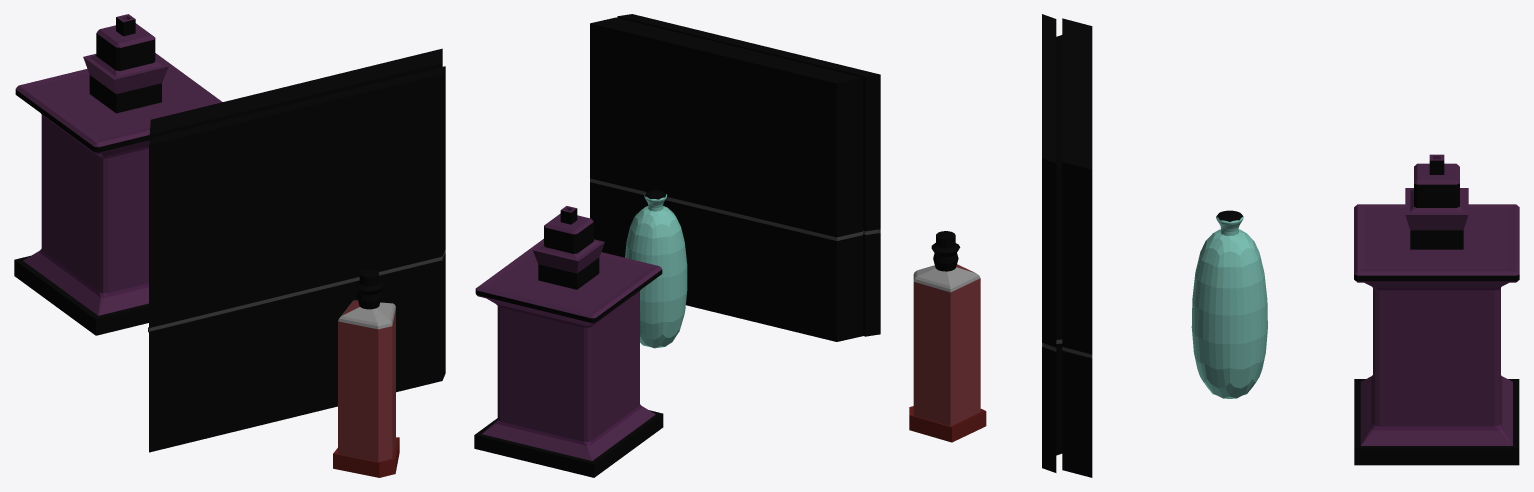
The model's file is mais_coisa_pra_sala.fbx.
The picture shows the model from 3 angles, left to right: view 1: azimuth 30°, elevation 25°; view 2: azimuth 150°, elevation 25°; view 3: azimuth 270°, elevation 25°; orthographic projection. The views are drawn at different scales.
Parts seen in each view (by area): view 1: Plane.001, Plane, Cylinder; view 2: Plane.001, Plane, Circle; view 3: Plane, Plane.001, Cylinder, Circle.
Part boxes in pixels (x1=…): Plane.001: x1=148, y1=48, x2=445, y2=452; Plane: x1=14, y1=14, x2=222, y2=335; Cylinder: x1=333, y1=269, x2=399, y2=477; Plane.001: x1=590, y1=14, x2=880, y2=341; Plane: x1=474, y1=206, x2=663, y2=477; Circle: x1=625, y1=190, x2=687, y2=348; Plane: x1=1354, y1=154, x2=1519, y2=465; Plane.001: x1=1042, y1=14, x2=1092, y2=477; Cylinder: x1=909, y1=231, x2=986, y2=442; Circle: x1=1191, y1=210, x2=1267, y2=398.
Bounding box in the file's own units: 199 × 196 × 327.
